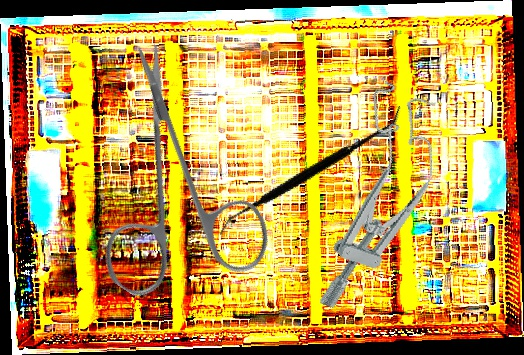Iris Scissors: (22, 38, 328, 344)
Spatula Surgical: (216, 58, 404, 283)
Speculum: (303, 78, 457, 325)
